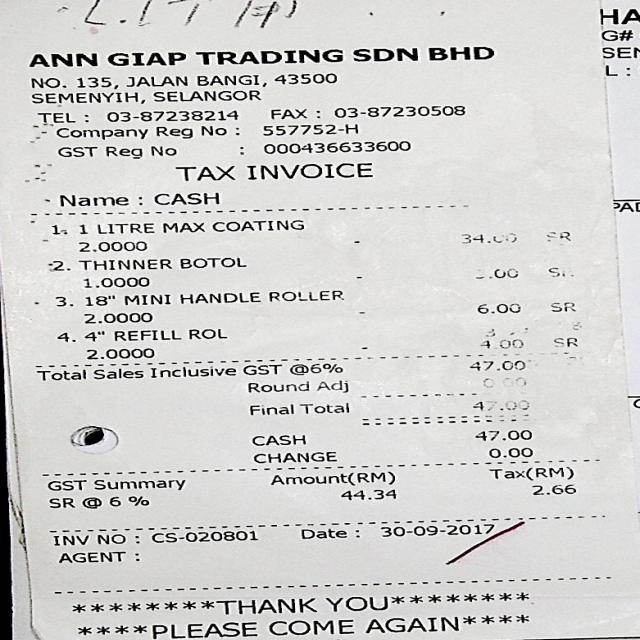text: (159, 616, 256, 640), (193, 49, 341, 64), (247, 162, 371, 179), (261, 140, 409, 153), (261, 472, 395, 486), (105, 109, 237, 122), (31, 91, 144, 106), (364, 614, 458, 632), (378, 523, 492, 537), (333, 105, 464, 117), (216, 599, 316, 614), (268, 618, 352, 635), (91, 476, 184, 491), (150, 530, 256, 543), (151, 89, 259, 101), (106, 51, 184, 66), (56, 127, 146, 140), (486, 466, 574, 479), (262, 124, 356, 136), (212, 220, 302, 232), (322, 595, 384, 612), (76, 258, 170, 269), (251, 451, 336, 463), (145, 366, 237, 377), (426, 45, 493, 60), (81, 347, 157, 360), (27, 52, 96, 66), (173, 165, 233, 181), (179, 291, 259, 303), (152, 191, 218, 205), (351, 47, 416, 61), (268, 290, 342, 302), (196, 74, 265, 86), (56, 551, 125, 563), (32, 112, 87, 127), (59, 194, 127, 206), (178, 256, 245, 268), (248, 433, 308, 446), (272, 72, 335, 84), (83, 312, 151, 323), (288, 362, 341, 375), (468, 399, 530, 410), (77, 241, 145, 251), (471, 429, 532, 440), (113, 330, 180, 340), (466, 359, 526, 370), (83, 277, 147, 287), (247, 382, 310, 392), (485, 445, 533, 458), (124, 76, 186, 86), (340, 489, 394, 500), (245, 404, 294, 416), (300, 528, 358, 538), (241, 362, 282, 376), (34, 369, 85, 380), (97, 223, 153, 233), (460, 233, 514, 243), (75, 76, 116, 89), (89, 368, 142, 378), (297, 403, 350, 413), (270, 108, 318, 119), (122, 294, 169, 305), (40, 479, 86, 490), (479, 339, 522, 350), (108, 495, 148, 506), (155, 126, 191, 138), (105, 146, 141, 158), (476, 303, 519, 313), (315, 379, 348, 392), (162, 222, 204, 232), (532, 484, 574, 494), (188, 328, 226, 339), (56, 146, 96, 156), (51, 534, 87, 545), (29, 77, 64, 88), (474, 269, 516, 278), (200, 126, 238, 135), (95, 533, 124, 544), (84, 296, 113, 306), (48, 497, 74, 508), (550, 338, 579, 347), (549, 302, 574, 312), (148, 146, 174, 155), (46, 260, 69, 270), (83, 330, 103, 341), (82, 497, 100, 508), (56, 332, 74, 341), (50, 224, 66, 234), (55, 296, 71, 306), (547, 268, 563, 276), (77, 224, 86, 234), (558, 232, 569, 240), (137, 196, 141, 204)
